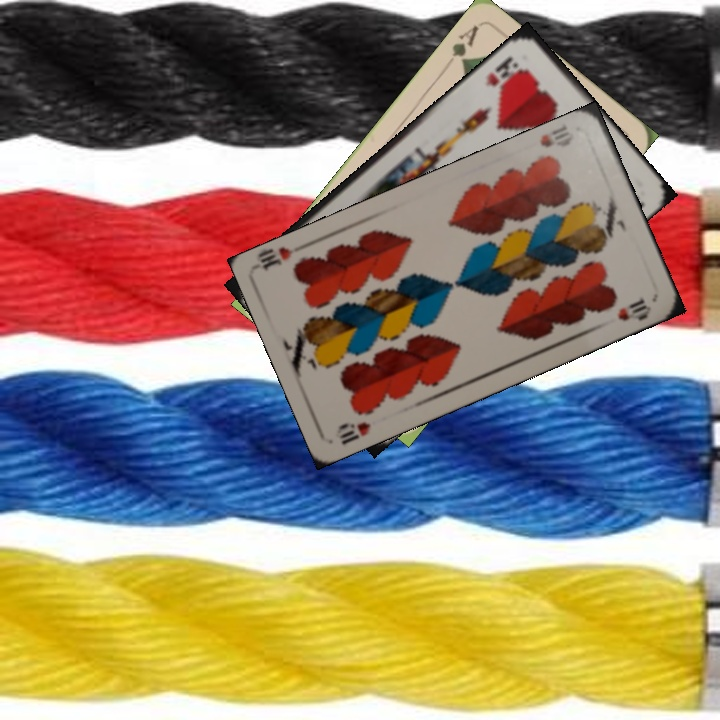GA: (440, 21, 482, 72)
H10: (331, 417, 374, 448), (535, 122, 577, 151)
HK: (481, 52, 524, 90)
